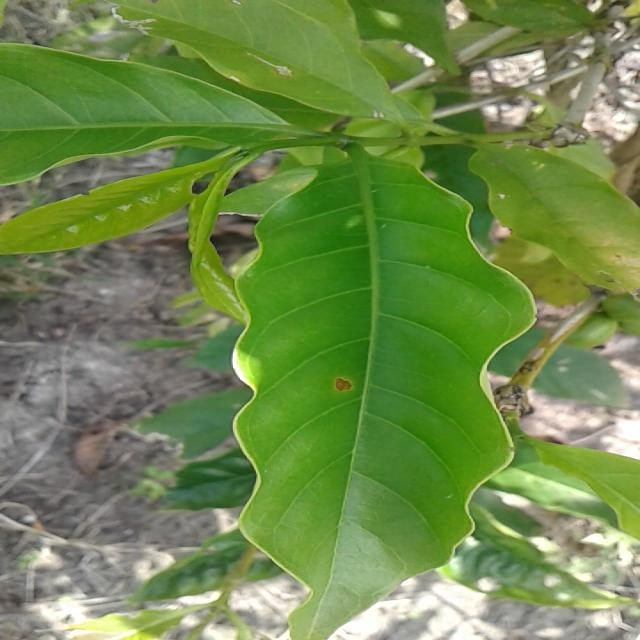Enfermedad-Roya: (191, 146, 540, 640)
